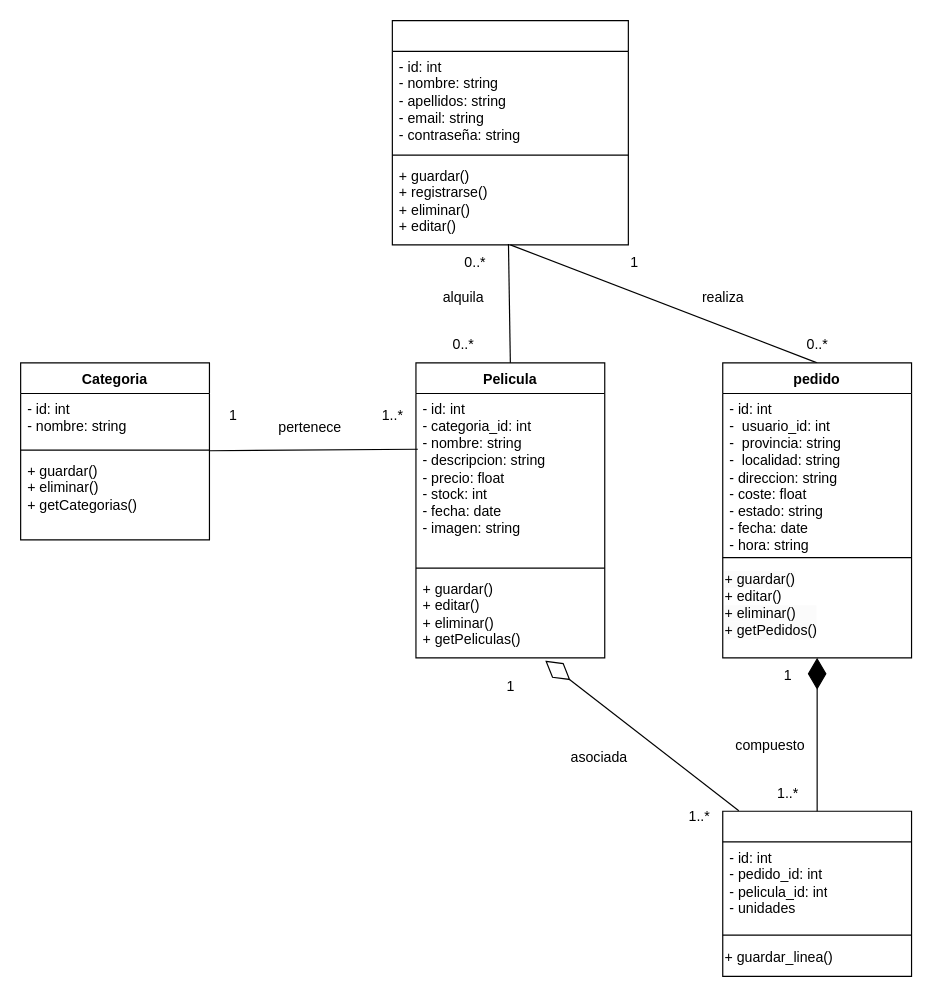
This 932x997 diagram has some shape labels left out. Each missing label, with the box of its shape:
lineas_pedido: (722, 810, 912, 976)
Usuario: (391, 19, 628, 245)
